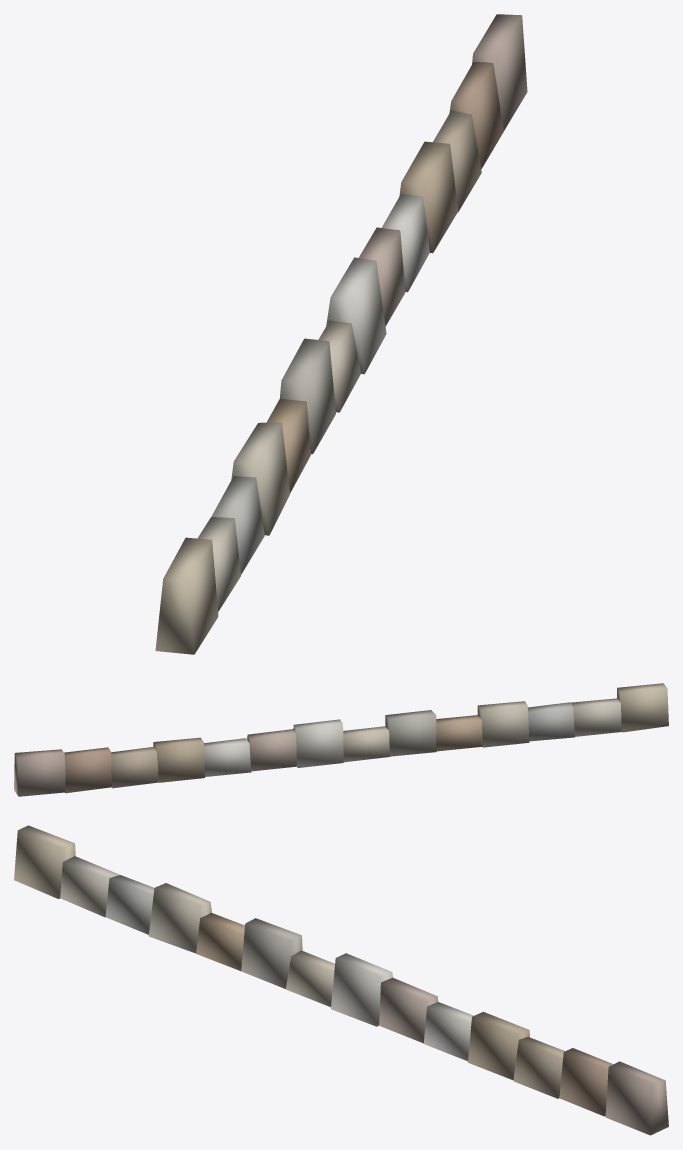
The model's file is farm_6_-4_far.glb.
3 renders of one model, top to bottom at view 1: azimuth 30°, elevation 25°; view 2: azimuth 150°, elevation 25°; view 3: azimuth 270°, elevation 25°, orthographic. The views are drawn at different scales.
Visible parts, largest first — view 1: geometry_0; view 2: geometry_0; view 3: geometry_0.
Part boxes in pixels (x1=…): geometry_0: x1=155, y1=14, x2=527, y2=654; geometry_0: x1=14, y1=683, x2=668, y2=796; geometry_0: x1=14, y1=825, x2=668, y2=1135.
Bounding box in the file's own units: 15.94 × 1.6 × 16.29.
